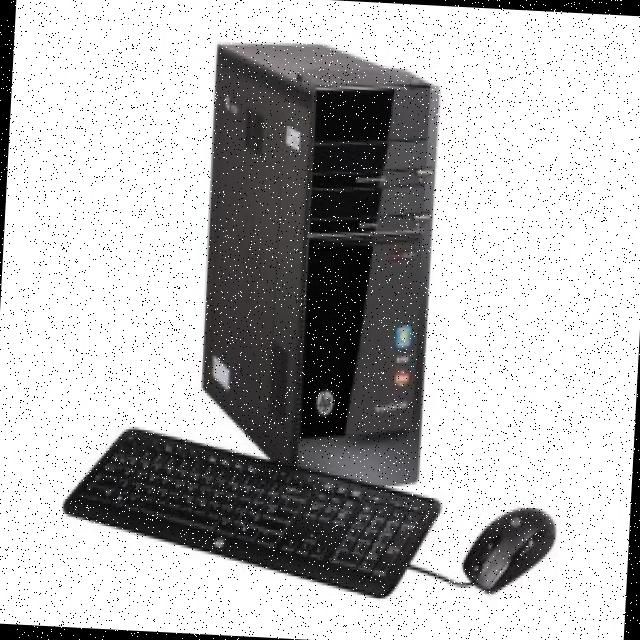Computer: (163, 11, 459, 497)
